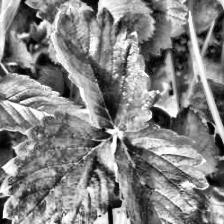Powdery Mildew Leaf: (50, 4, 161, 134), (0, 110, 118, 224), (111, 120, 211, 224), (0, 0, 30, 88)
